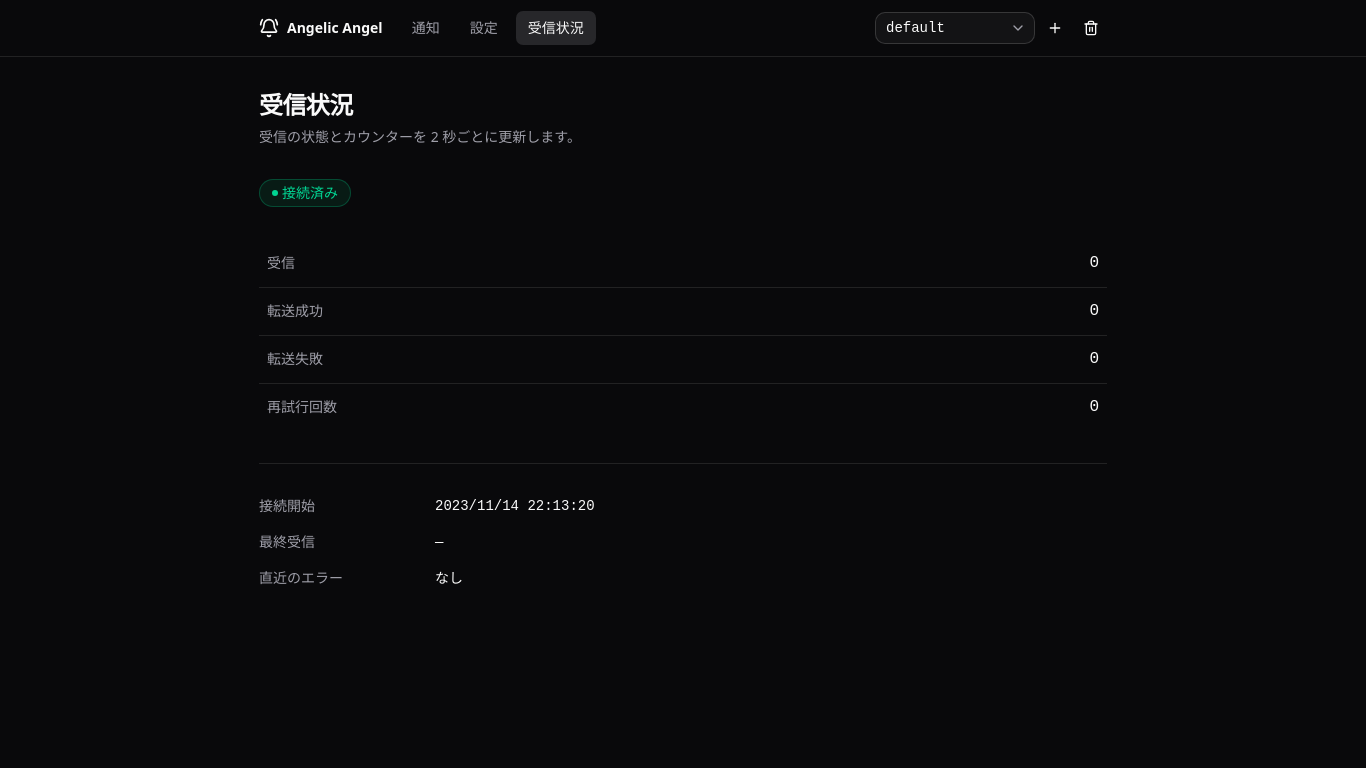
Test: adding an account › creates the account, selects it and lands on its settings
This screenshot has width=1366, height=768.
Check: the heading "受信状況" is shown, box x1=259 y1=88 x2=353 y2=121
Step 1. Click the button named "アカウントを追加" → coordinates (1055, 28), box x1=1039 y1=12 x2=1071 y2=44
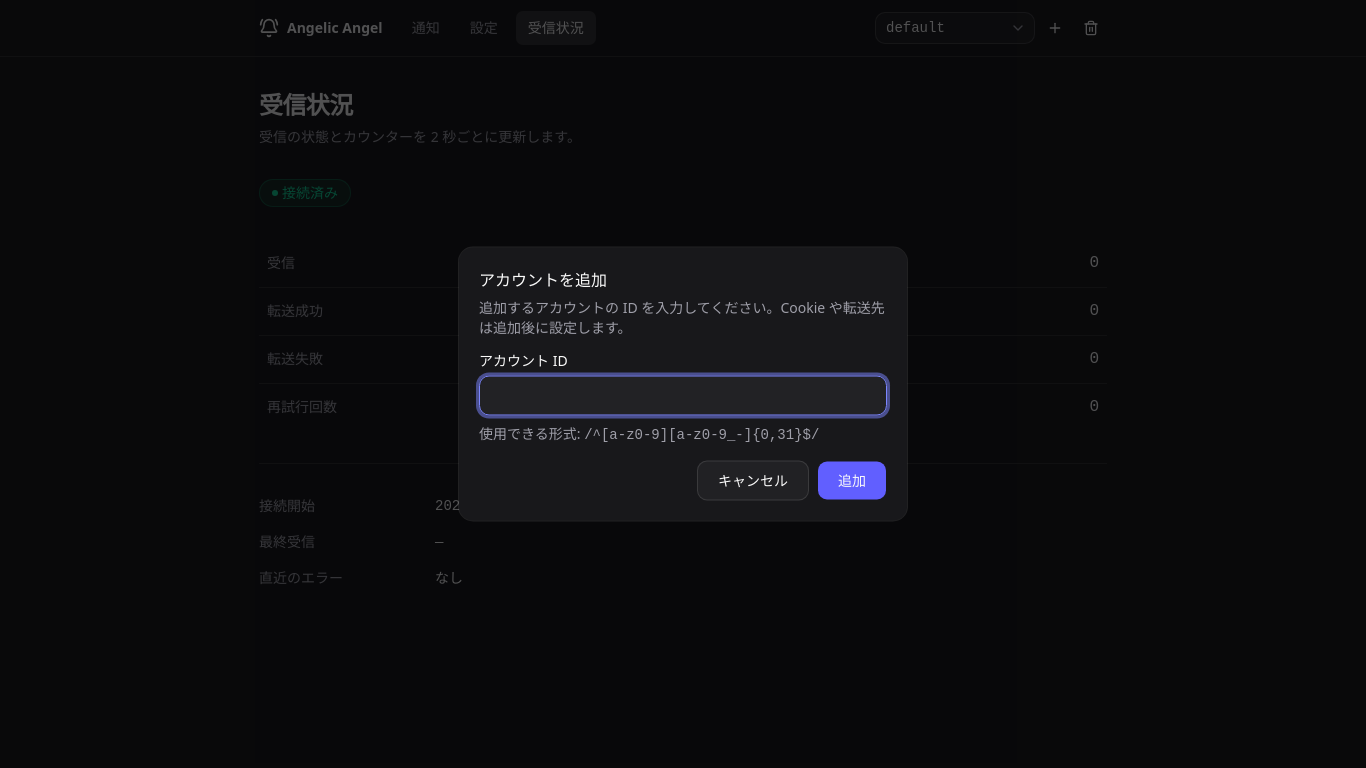
Step 2. Type "work-2" into the field labelled "アカウント ID" → coordinates (683, 396), box x1=479 y1=376 x2=887 y2=416
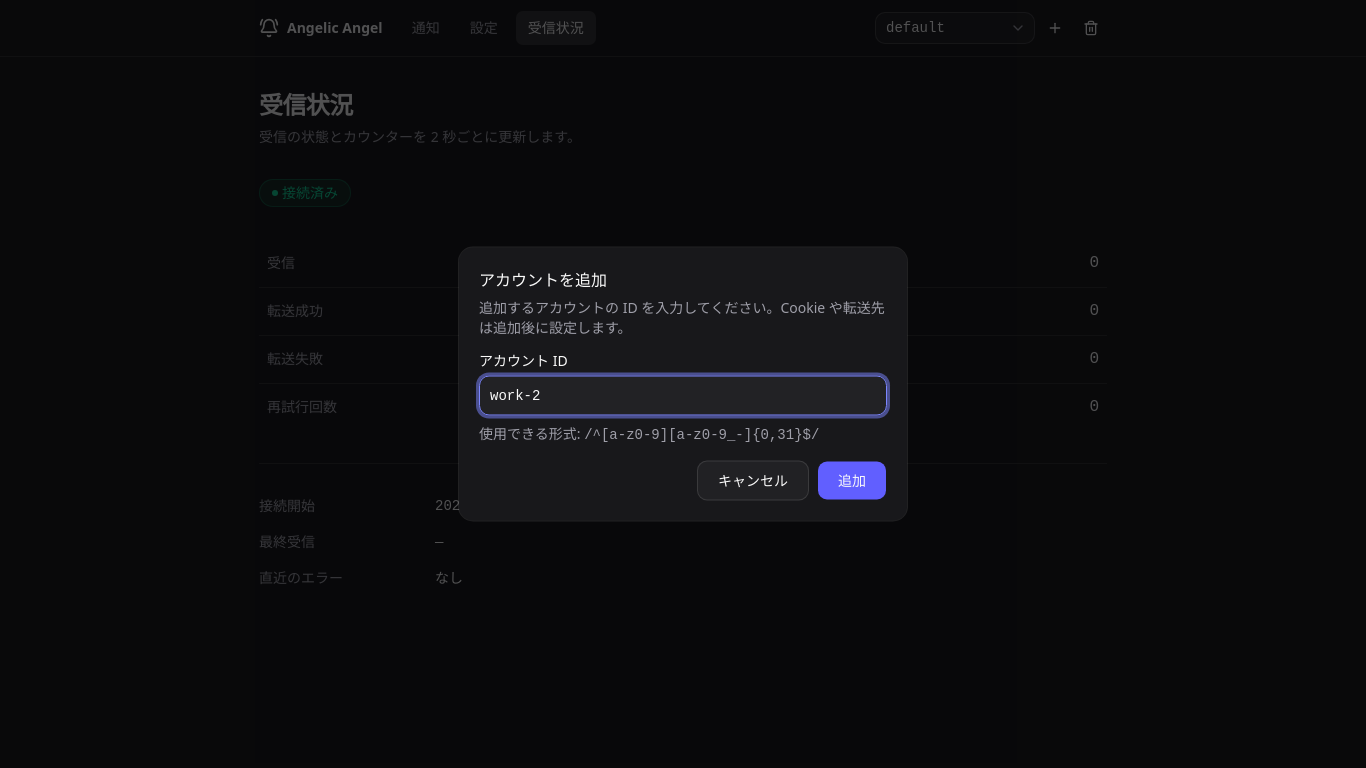
Step 3. Click the button "追加" → coordinates (852, 480), box x1=817 y1=460 x2=887 y2=500
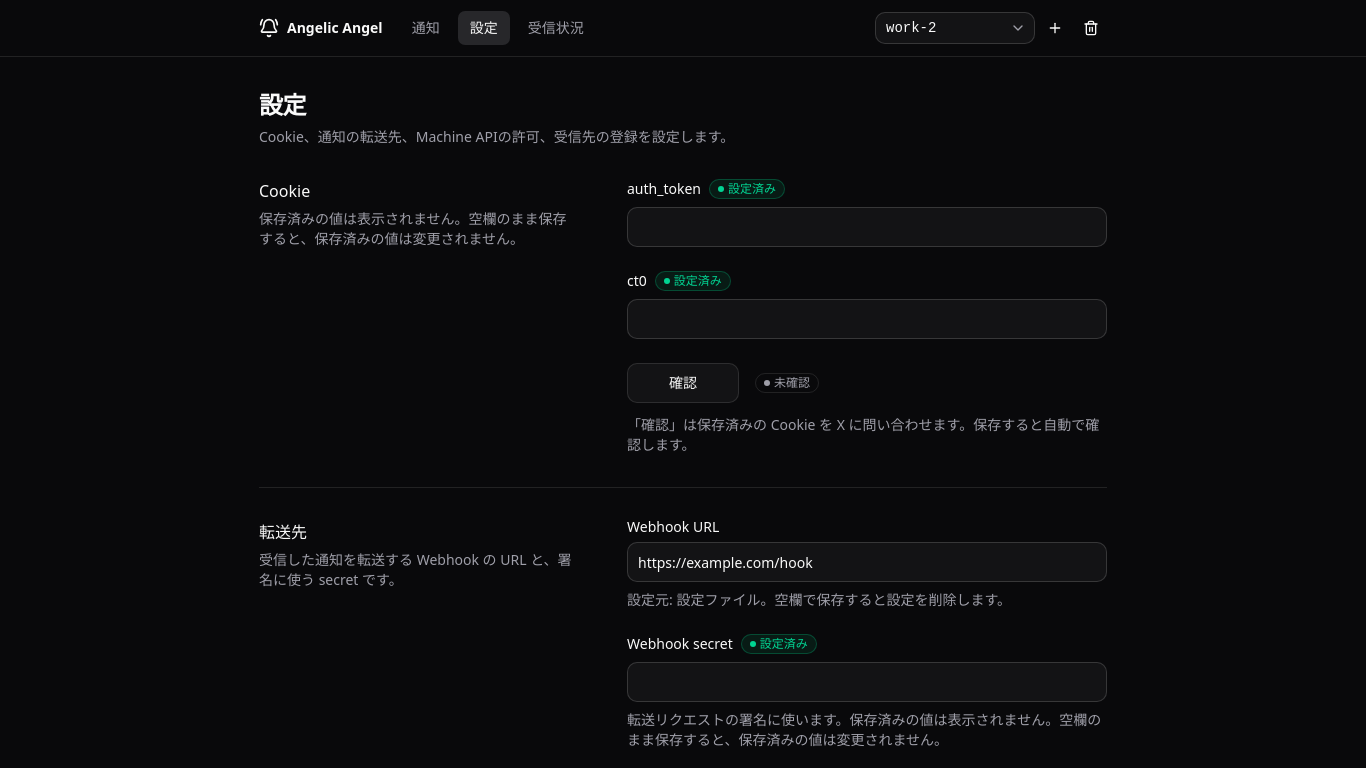
Check: the dialog is gone
Check: the heading "設定" is shown, box x1=259 y1=88 x2=306 y2=121
Check: the dropdown named "アカウント" reads "work-2", box x1=875 y1=12 x2=1035 y2=44
